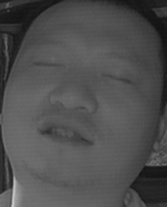blink: (29, 49, 65, 77), (101, 62, 133, 90)
mouth: (32, 111, 95, 152)
